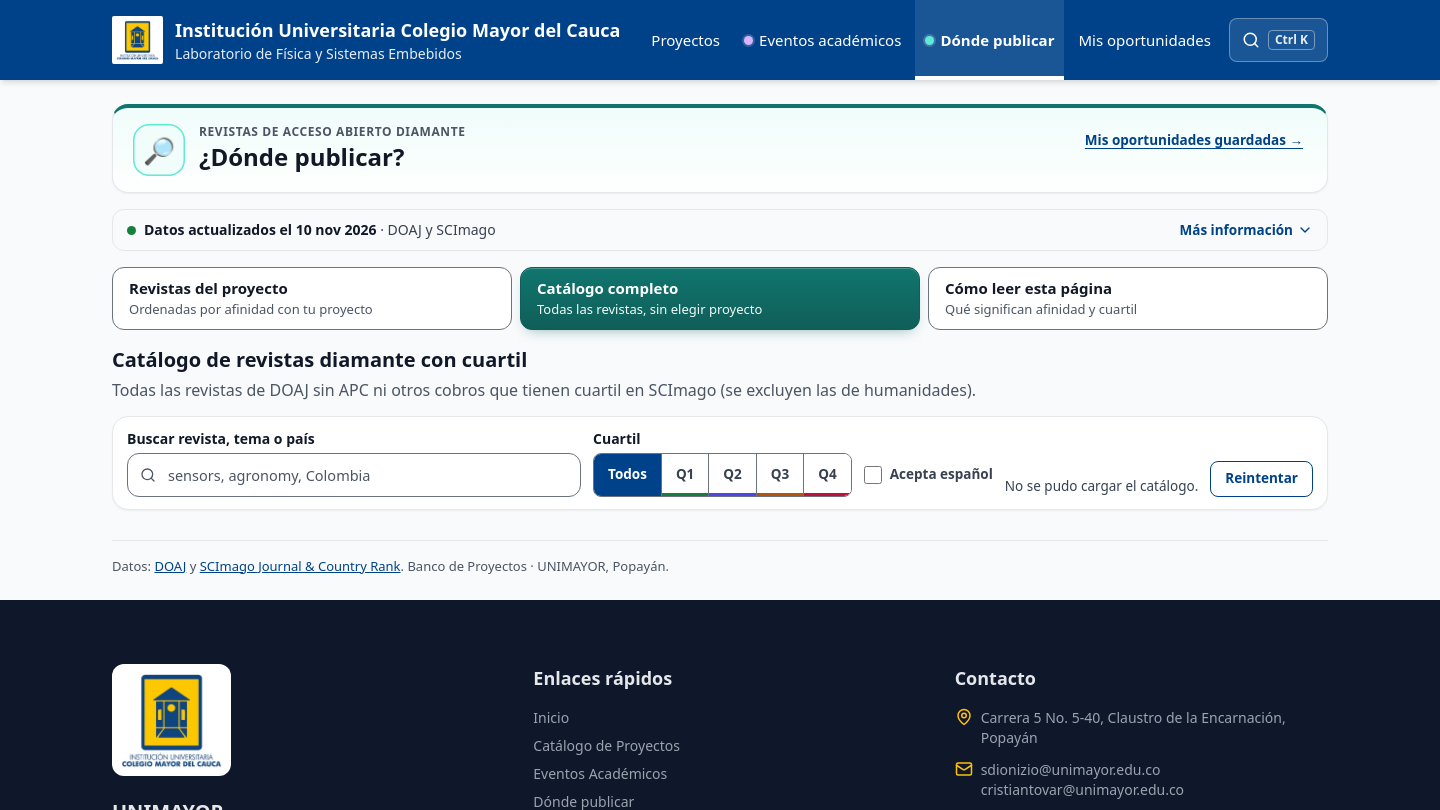
Test: /donde-publicar project tab without a project › picking a project in the picker keeps today's behavior: the project tab lists its journals
Expected: the element named "Secciones" is shown, [112,267,1328,330]
Click the tab "Revistas del proyecto Ordenadas por afinidad con tu proyecto" at [312, 298], box [112,267,512,330]
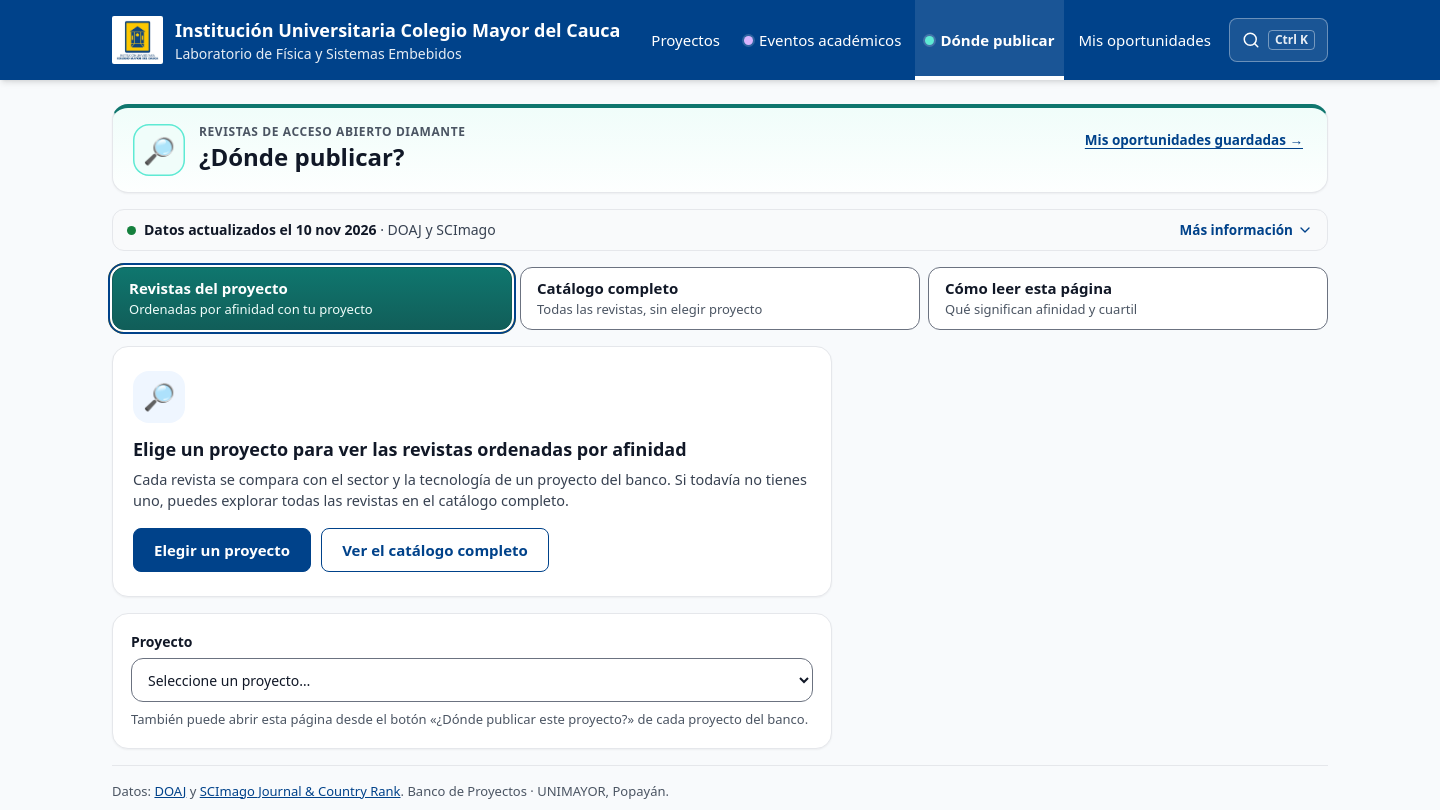
Select "1. Monitoreo agrícola con MQTT" in the dropdown labelled "Proyecto" at [472, 680], box [131,658,813,702]
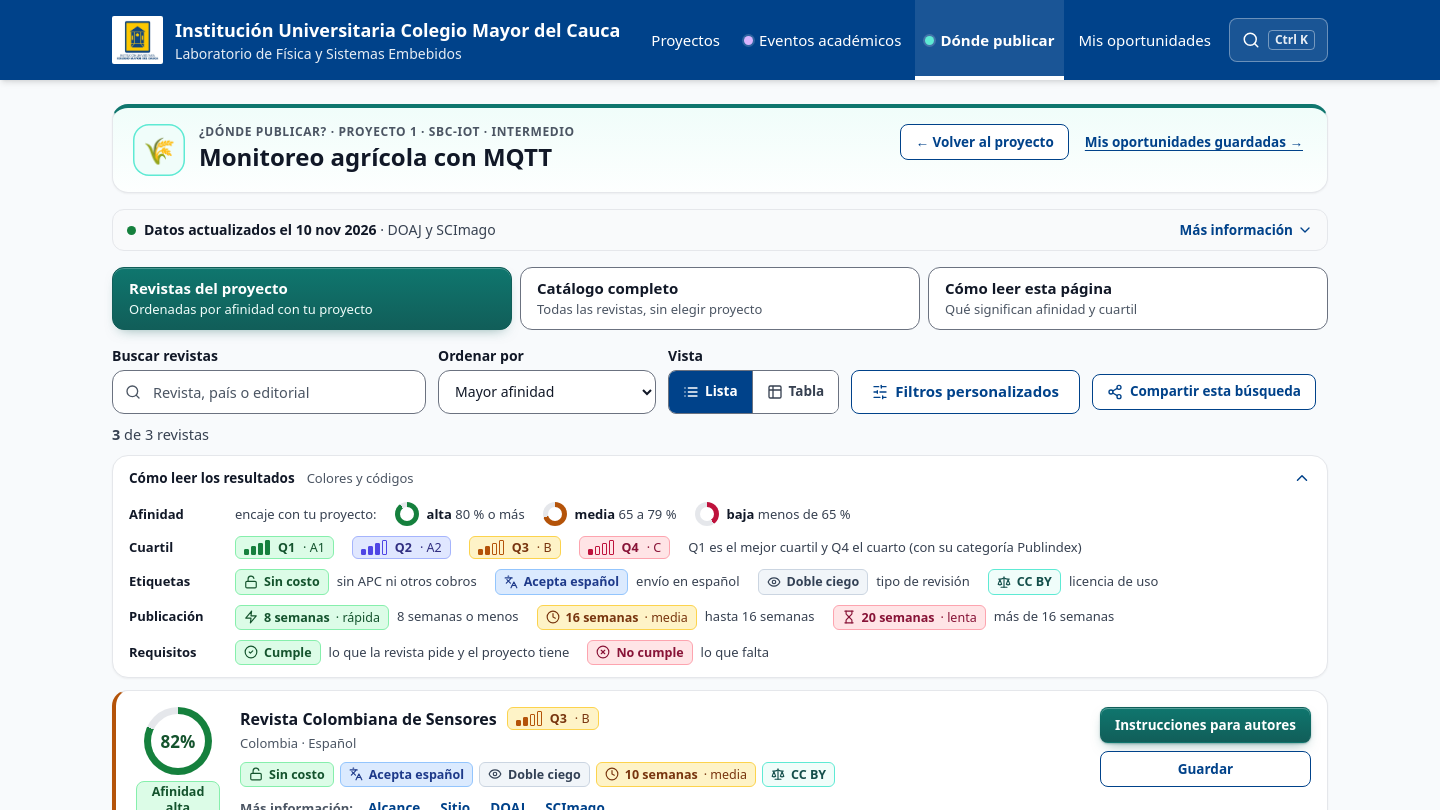
Now the heading "Monitoreo agrícola con MQTT" is shown, box [199,142,575,172]
